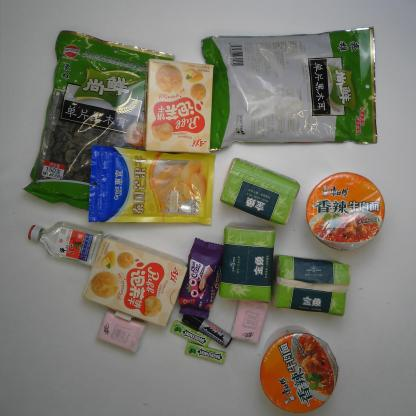Alcohol: (26, 219, 107, 268)
Dessert: (79, 232, 192, 330), (142, 53, 216, 156), (176, 236, 226, 320)
Dried Food: (20, 29, 178, 215), (197, 24, 382, 154)
Dried Fruit: (84, 142, 218, 229)
Gum: (169, 318, 212, 348), (183, 340, 227, 366)
Instant Noodles: (256, 322, 341, 416), (302, 168, 388, 256)
Stationery: (181, 313, 234, 349)
Tissue: (219, 157, 302, 228), (269, 252, 352, 318), (217, 219, 277, 305), (95, 308, 148, 354), (230, 297, 272, 345)
